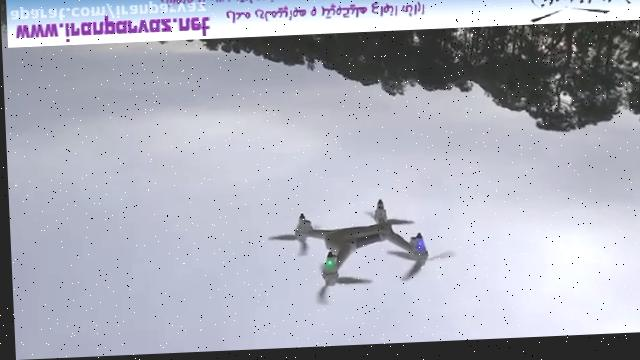drone: (260, 197, 459, 314)
